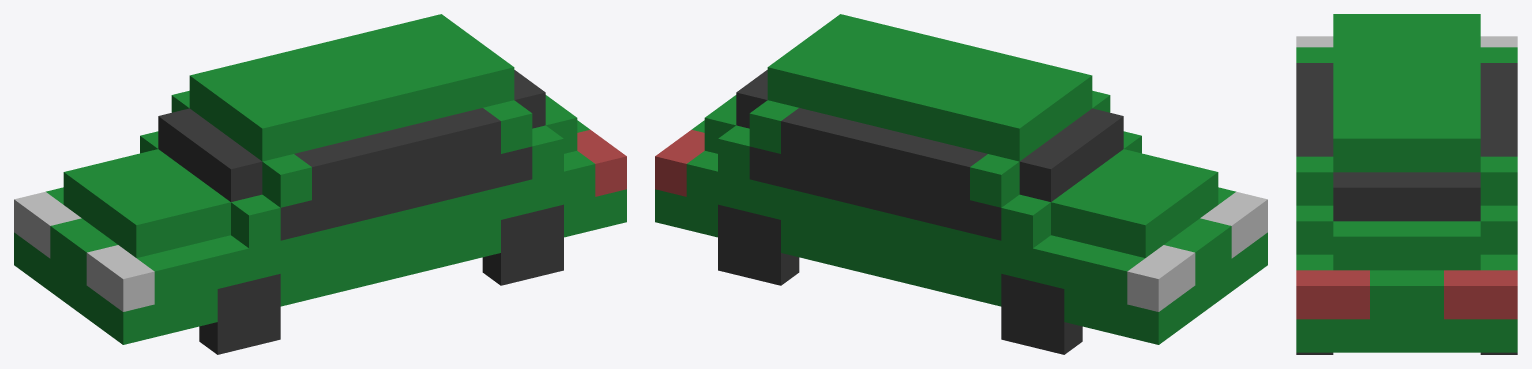
File: car-v4-green.gltf
3 renders of one model, left to right at view 1: azimuth 30°, elevation 25°; view 2: azimuth 150°, elevation 25°; view 3: azimuth 270°, elevation 25°, orthographic.
Visible parts, largest first — view 1: model, wheels; view 2: model, wheels; view 3: model, wheels.
Part boxes in pixels (box(x1,y1,x2,y2)): model: box(14, 14, 626, 344); wheels: box(199, 204, 563, 354); model: box(655, 14, 1267, 344); wheels: box(718, 204, 1082, 354); model: box(1296, 14, 1517, 352); wheels: box(1296, 352, 1517, 354).
Bounding box in the file's own units: 1.6 × 0.6 × 0.6.
Materials: 2 (2 with a texture image).
